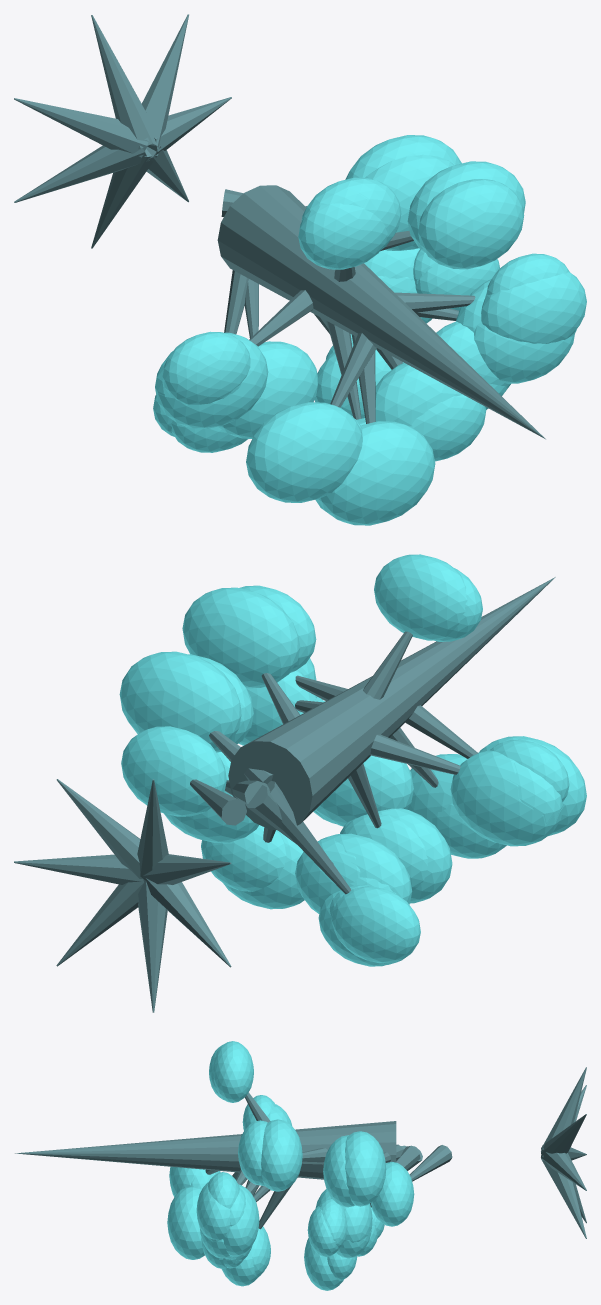
Rendered from Akariz_Tree_Weeping_Veil.glb.
3 views of the same model, one above another, from view 1: azimuth 30°, elevation 25°; view 2: azimuth 150°, elevation 25°; view 3: azimuth 270°, elevation 25° (orthographic). The views are drawn at different scales.
Visible parts, largest first — view 1: Akariz_Tree_Weeping_Veil_trunk, Akariz_Tree_Weeping_Veil_leaf4_3, Akariz_Tree_Weeping_Veil_leaf5_2, Akariz_Tree_Weeping_Veil_leaf16_1, Akariz_Tree_Weeping_Veil_leaf6_0, Akariz_Tree_Weeping_Veil_leaf2_3, Akariz_Tree_Weeping_Veil_leaf14_2, Akariz_Tree_Weeping_Veil_leaf8_1, Akariz_Tree_Weeping_Veil_leaf2_0, Akariz_Tree_Weeping_Veil_leaf9_0, Akariz_Tree_Weeping_Veil_leaf12_2, Akariz_Tree_Weeping_Veil_leaf12_3 (+25 smaller); view 2: Akariz_Tree_Weeping_Veil_trunk, Akariz_Tree_Weeping_Veil_leaf16_0, Akariz_Tree_Weeping_Veil_leaf1_1, Akariz_Tree_Weeping_Veil_leaf0_3, Akariz_Tree_Weeping_Veil_leaf14_0, Akariz_Tree_Weeping_Veil_leaf2_0, Akariz_Tree_Weeping_Veil_leaf3_1, Akariz_Tree_Weeping_Veil_leaf15_2, Akariz_Tree_Weeping_Veil_leaf12_2, Akariz_Tree_Weeping_Veil_leaf13_3, Akariz_Tree_Weeping_Veil_leaf13_2, Akariz_Tree_Weeping_Veil_leaf8_1 (+30 smaller); view 3: Akariz_Tree_Weeping_Veil_trunk, Akariz_Tree_Weeping_Veil_leaf1_1, Akariz_Tree_Weeping_Veil_leaf16_0, Akariz_Tree_Weeping_Veil_leaf5_2, Akariz_Tree_Weeping_Veil_leaf14_0, Akariz_Tree_Weeping_Veil_leaf0_3, Akariz_Tree_Weeping_Veil_leaf1_2, Akariz_Tree_Weeping_Veil_leaf9_2, Akariz_Tree_Weeping_Veil_leaf16_1, Akariz_Tree_Weeping_Veil_leaf6_0, Akariz_Tree_Weeping_Veil_leaf15_1, Akariz_Tree_Weeping_Veil_leaf7_0 (+18 smaller).
Part boxes in pixels (<box>): Akariz_Tree_Weeping_Veil_trunk: <box>217,185,545,439</box>; Akariz_Tree_Weeping_Veil_leaf4_3: <box>246,402,362,502</box>; Akariz_Tree_Weeping_Veil_leaf5_2: <box>317,421,435,525</box>; Akariz_Tree_Weeping_Veil_leaf16_1: <box>418,179,524,269</box>; Akariz_Tree_Weeping_Veil_leaf6_0: <box>481,272,586,343</box>; Akariz_Tree_Weeping_Veil_leaf2_3: <box>162,331,250,404</box>; Akariz_Tree_Weeping_Veil_leaf14_2: <box>298,203,387,269</box>; Akariz_Tree_Weeping_Veil_leaf8_1: <box>218,342,317,438</box>; Akariz_Tree_Weeping_Veil_leaf2_0: <box>157,332,268,428</box>; Akariz_Tree_Weeping_Veil_leaf9_0: <box>473,322,574,383</box>; Akariz_Tree_Weeping_Veil_leaf12_2: <box>375,363,462,426</box>; Akariz_Tree_Weeping_Veil_leaf12_3: <box>410,394,486,461</box>; Akariz_Tree_Weeping_Veil_trunk: <box>228,577,555,830</box>; Akariz_Tree_Weeping_Veil_leaf16_0: <box>182,587,300,688</box>; Akariz_Tree_Weeping_Veil_leaf1_1: <box>119,651,241,751</box>; Akariz_Tree_Weeping_Veil_leaf0_3: <box>121,726,226,816</box>; Akariz_Tree_Weeping_Veil_leaf14_0: <box>374,554,467,640</box>; Akariz_Tree_Weeping_Veil_leaf2_0: <box>450,750,563,846</box>; Akariz_Tree_Weeping_Veil_leaf3_1: <box>331,886,420,963</box>; Akariz_Tree_Weeping_Veil_leaf15_2: <box>201,825,286,891</box>; Akariz_Tree_Weeping_Veil_leaf12_2: <box>315,755,413,826</box>; Akariz_Tree_Weeping_Veil_leaf13_3: <box>341,814,427,890</box>; Akariz_Tree_Weeping_Veil_leaf13_2: <box>340,808,452,903</box>; Akariz_Tree_Weeping_Veil_leaf8_1: <box>320,833,412,904</box>; Akariz_Tree_Weeping_Veil_trunk: <box>15,1121,396,1179</box>; Akariz_Tree_Weeping_Veil_leaf1_1: <box>345,1131,386,1206</box>; Akariz_Tree_Weeping_Veil_leaf16_0: <box>261,1119,302,1191</box>; Akariz_Tree_Weeping_Veil_leaf5_2: <box>167,1187,204,1259</box>; Akariz_Tree_Weeping_Veil_leaf14_0: <box>213,1041,253,1102</box>; Akariz_Tree_Weeping_Veil_leaf0_3: <box>370,1161,414,1226</box>; Akariz_Tree_Weeping_Veil_leaf1_2: <box>323,1135,354,1207</box>; Akariz_Tree_Weeping_Veil_leaf9_2: <box>223,1184,259,1256</box>; Akariz_Tree_Weeping_Veil_leaf16_1: <box>238,1120,267,1185</box>; Akariz_Tree_Weeping_Veil_leaf6_0: <box>196,1182,230,1240</box>; Akariz_Tree_Weeping_Veil_leaf15_1: <box>304,1238,343,1290</box>; Akariz_Tree_Weeping_Veil_leaf7_0: <box>307,1206,339,1256</box>.
Size of the model in its own units: 5.86 by 4.96 by 11.24.
